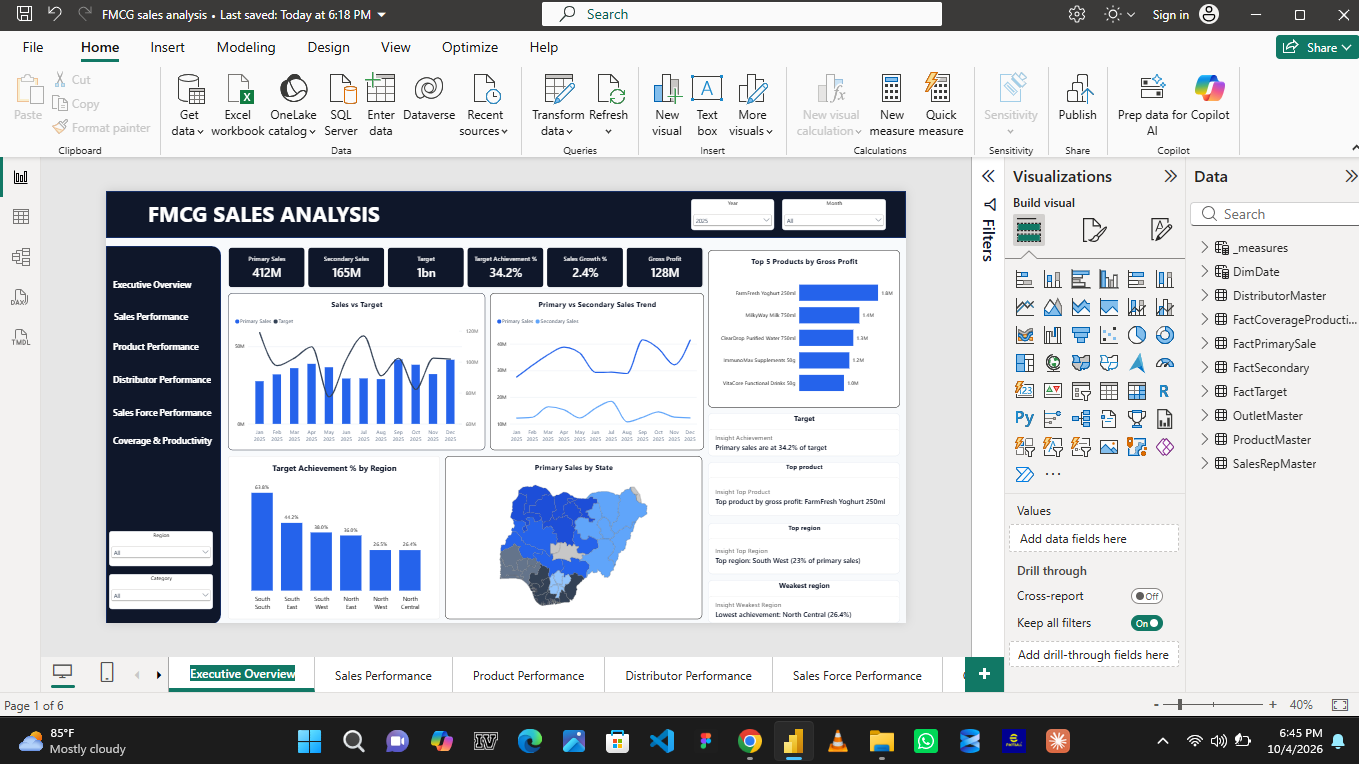

What the dashboard file says about the page in this screenshot:
{"tool":"powerbi","page":{"name":"Executive Overview","canvas":[2000,1082],"ordinal":0},"visuals":[{"type":"shape","box":[0,0,2000,117.5],"z":0},{"type":"textbox","box":[105,20,655,80],"z":1000},{"type":"shape","box":[0,137.5,287.5,945],"z":2000},{"type":"textbox","box":[17.5,220,215,45],"z":4000},{"type":"textbox","box":[17.5,375,255,35],"z":5000},{"type":"textbox","box":[17.5,457.5,255,37.5],"z":6000},{"type":"textbox","box":[17.5,540,255,37.5],"z":7000},{"type":"textbox","box":[17.5,610,255,37.5],"z":8000},{"type":"cardVisual","fields":{"Data":["_measures.Primary Sales","_measures.Secondary Sales","_measures.Target","_measures.Target Achievement %","_measures.Sales Growth %","_measures.Gross Profit"]},"box":[305,140,1190,102.5],"z":11000},{"type":"lineClusteredColumnComboChart","title":" Sales vs Target","fields":{"Category":["DimDate.Month Year"],"Y":["_measures.Primary Sales"],"Y2":["_measures.Target"]},"box":[305,255,642.5,392.5],"z":12000},{"type":"clusteredBarChart","title":"Top 5 Products by Gross Profit","fields":{"Category":["ProductMaster.Product_Name"],"Y":["_measures.Gross Profit"]},"box":[1505,147.5,480,394],"z":13000},{"type":"shapeMap","title":"Primary Sales by State","fields":{"Category":["DistributorMaster.State"],"Series":["DistributorMaster.Region"],"Value":["_measures.Primary Sales"]},"box":[847.5,662.5,642.5,407.5],"z":14000},{"type":"lineChart","title":"Primary vs Secondary Sales Trend","fields":{"Category":["DimDate.Month Year"],"Y":["_measures.Primary Sales","_measures.Secondary Sales"]},"box":[960,255,535,392.5],"z":16000},{"type":"columnChart","title":"Target Achievement % by Region","fields":{"Category":["DistributorMaster.Region"],"Y":["_measures.Target Achievement %"]},"box":[305,662.5,530,407.5],"z":17000},{"type":"slicer","title":"Year","fields":{"Values":["DimDate.Year"]},"box":[1462.5,20,207.5,77.5],"z":40300},{"type":"slicer","title":"Month","fields":{"Values":["DimDate.Month"]},"box":[1690,20,260,77.5],"z":40400},{"type":"slicer","title":"Region","fields":{"Values":["DistributorMaster.Region"]},"box":[7.5,850,260,87.5],"z":40500},{"type":"slicer","title":"Category","fields":{"Values":["ProductMaster.Category"]},"box":[7.5,957.5,260,87.5],"z":40600},{"type":"cardVisual","title":"Target","fields":{"Data":["_measures.Insight Achievement"]},"box":[1505,555,480,107.5],"z":40700},{"type":"cardVisual","title":"Top region","fields":{"Data":["_measures.Insight Top Region"]},"box":[1505,830,480,127.5],"z":40800},{"type":"cardVisual","title":"Weakest region","fields":{"Data":["_measures.Insight Weakest Region"]},"box":[1505,972.5,480,107.5],"z":40900},{"type":"cardVisual","title":"Top product","fields":{"Data":["_measures.Insight Top Product"]},"box":[1505,677.5,480,135],"z":41000},{"type":"textbox","box":[20,300,250,45],"z":41001}]}

Visuals, with their boxes on the page's 2000x1082 design canvas (x1, y1, x2, y2). These are canvas units, not pixel positions in the 1359x764 screenshot, which may show the page scaled, cropped or inside an application window:
shape: {"left": 0, "top": 0, "right": 2000, "bottom": 118}
textbox: {"left": 105, "top": 20, "right": 760, "bottom": 100}
shape: {"left": 0, "top": 138, "right": 288, "bottom": 1082}
textbox: {"left": 18, "top": 220, "right": 232, "bottom": 265}
textbox: {"left": 18, "top": 375, "right": 272, "bottom": 410}
textbox: {"left": 18, "top": 458, "right": 272, "bottom": 495}
textbox: {"left": 18, "top": 540, "right": 272, "bottom": 578}
textbox: {"left": 18, "top": 610, "right": 272, "bottom": 648}
cardVisual - _measures.Primary Sales x _measures.Secondary Sales: {"left": 305, "top": 140, "right": 1495, "bottom": 242}
" Sales vs Target" lineClusteredColumnComboChart: {"left": 305, "top": 255, "right": 948, "bottom": 648}
"Top 5 Products by Gross Profit" clusteredBarChart: {"left": 1505, "top": 148, "right": 1985, "bottom": 542}
"Primary Sales by State" shapeMap: {"left": 848, "top": 662, "right": 1490, "bottom": 1070}
"Primary vs Secondary Sales Trend" lineChart: {"left": 960, "top": 255, "right": 1495, "bottom": 648}
"Target Achievement % by Region" columnChart: {"left": 305, "top": 662, "right": 835, "bottom": 1070}
"Year" slicer: {"left": 1462, "top": 20, "right": 1670, "bottom": 98}
"Month" slicer: {"left": 1690, "top": 20, "right": 1950, "bottom": 98}
"Region" slicer: {"left": 8, "top": 850, "right": 268, "bottom": 938}
"Category" slicer: {"left": 8, "top": 958, "right": 268, "bottom": 1045}
"Target" cardVisual: {"left": 1505, "top": 555, "right": 1985, "bottom": 662}
"Top region" cardVisual: {"left": 1505, "top": 830, "right": 1985, "bottom": 958}
"Weakest region" cardVisual: {"left": 1505, "top": 972, "right": 1985, "bottom": 1080}
"Top product" cardVisual: {"left": 1505, "top": 678, "right": 1985, "bottom": 812}
textbox: {"left": 20, "top": 300, "right": 270, "bottom": 345}
